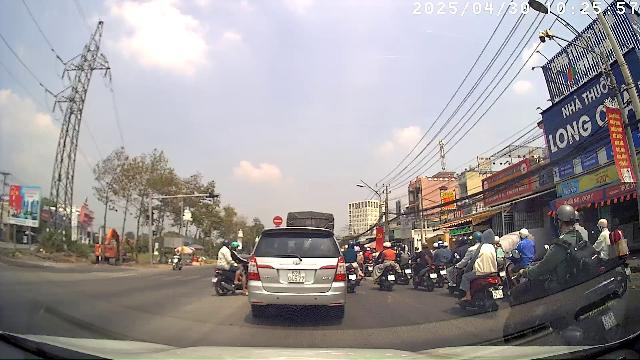102-cam-di-nguoc-chieu: (274, 216, 282, 226)
